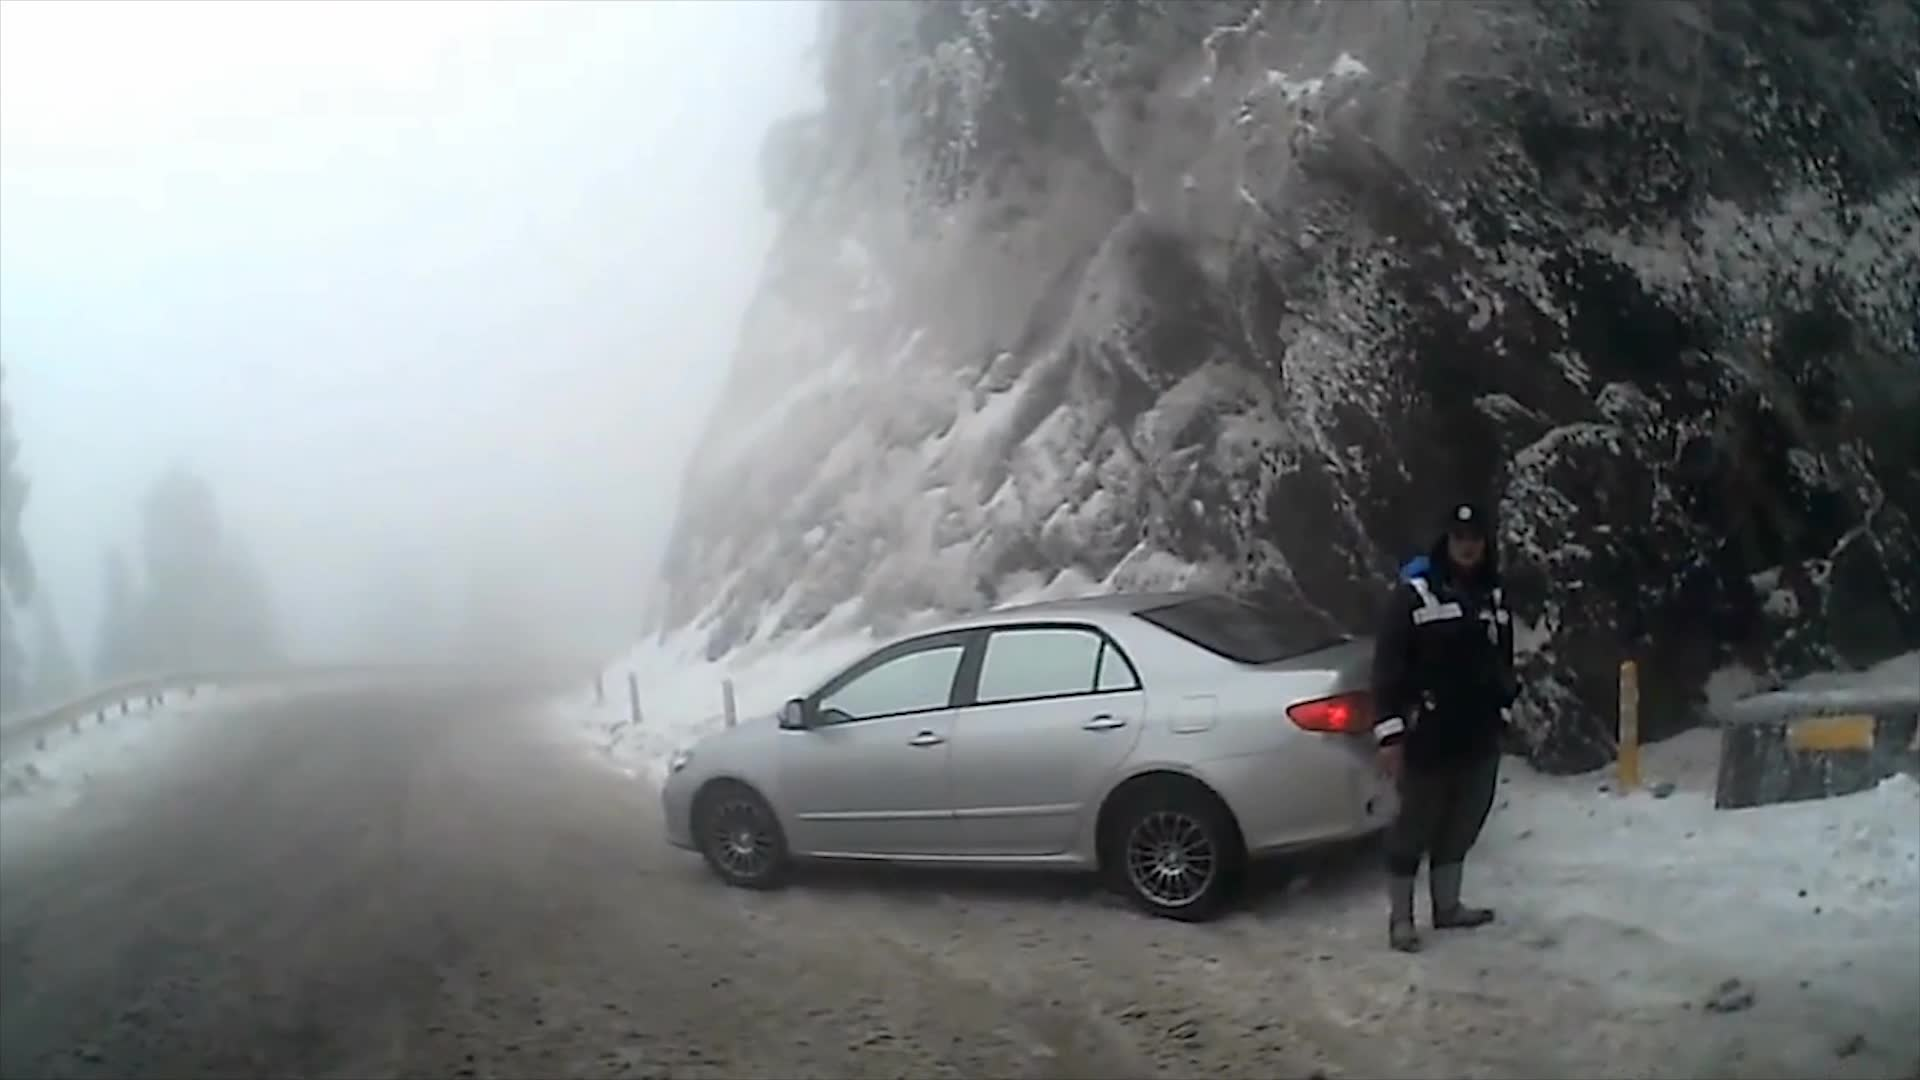pedestrian: (1361, 494, 1518, 948)
vehicle: (655, 591, 1466, 923)
